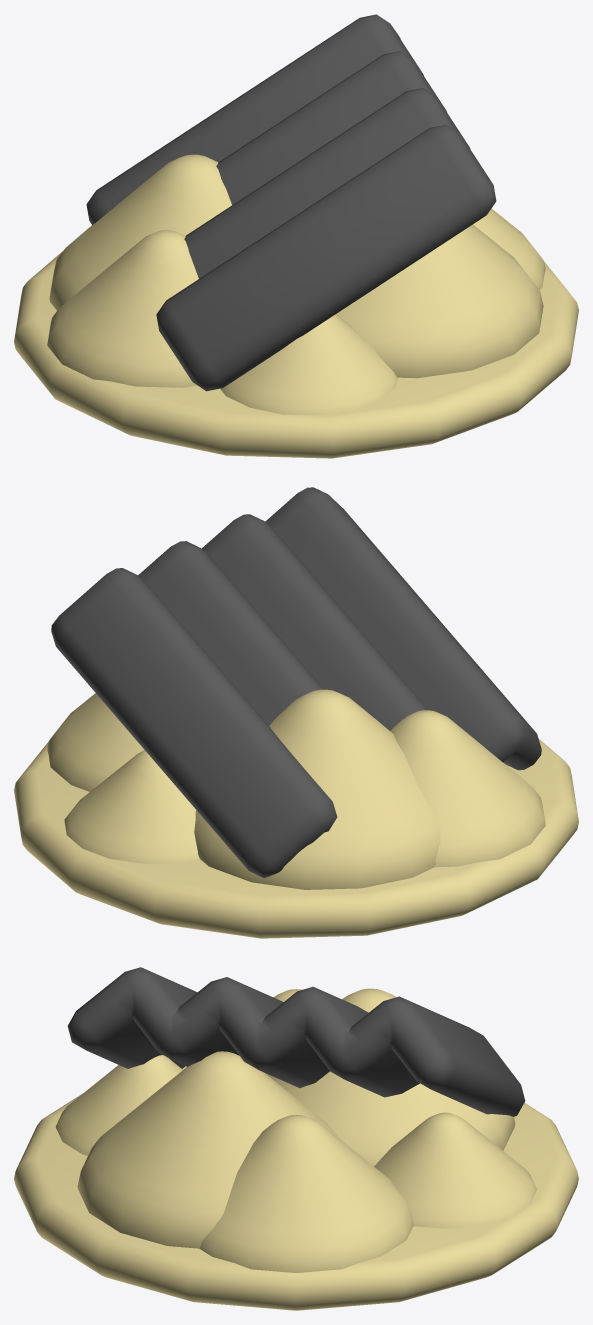
Rendered from LastLuna_Model_Node_Sand_Scrap.fbx.
3 renders of one model, top to bottom at view 1: azimuth 30°, elevation 25°; view 2: azimuth 150°, elevation 25°; view 3: azimuth 270°, elevation 25°, orthographic.
Visible parts, largest first — view 1: Scrap001, SandFloor001, Dirt_Floor004, Dirt_Floor001, Dirt_Floor006, Dirt_Floor003, Dirt_Floor002; view 2: Scrap001, SandFloor001, Dirt_Floor003, Dirt_Floor001, Dirt_Floor005, Dirt_Floor002; view 3: Scrap001, SandFloor001, Dirt_Floor004, Dirt_Floor002, Dirt_Floor005, Dirt_Floor003, Dirt_Floor006.
Boxes of the visible parts, x1=… form: Scrap001: x1=86, y1=14, x2=496, y2=391; SandFloor001: x1=14, y1=251, x2=578, y2=458; Dirt_Floor004: x1=336, y1=224, x2=543, y2=378; Dirt_Floor001: x1=47, y1=230, x2=198, y2=387; Dirt_Floor006: x1=220, y1=314, x2=397, y2=415; Dirt_Floor003: x1=49, y1=154, x2=231, y2=310; Dirt_Floor002: x1=473, y1=208, x2=545, y2=289; Scrap001: x1=51, y1=487, x2=541, y2=877; SandFloor001: x1=14, y1=739, x2=578, y2=938; Dirt_Floor003: x1=194, y1=689, x2=440, y2=889; Dirt_Floor001: x1=390, y1=710, x2=545, y2=867; Dirt_Floor005: x1=64, y1=750, x2=199, y2=863; Dirt_Floor002: x1=47, y1=693, x2=144, y2=791; Scrap001: x1=67, y1=967, x2=525, y2=1116; SandFloor001: x1=14, y1=1066, x2=578, y2=1310; Dirt_Floor004: x1=77, y1=1051, x2=342, y2=1248; Dirt_Floor002: x1=199, y1=1114, x2=413, y2=1272; Dirt_Floor005: x1=374, y1=1112, x2=537, y2=1228; Dirt_Floor003: x1=264, y1=988, x2=515, y2=1166; Dirt_Floor006: x1=55, y1=1055, x2=182, y2=1155.
Size of the model in its own units: 37.4 by 19.03 by 37.4.
